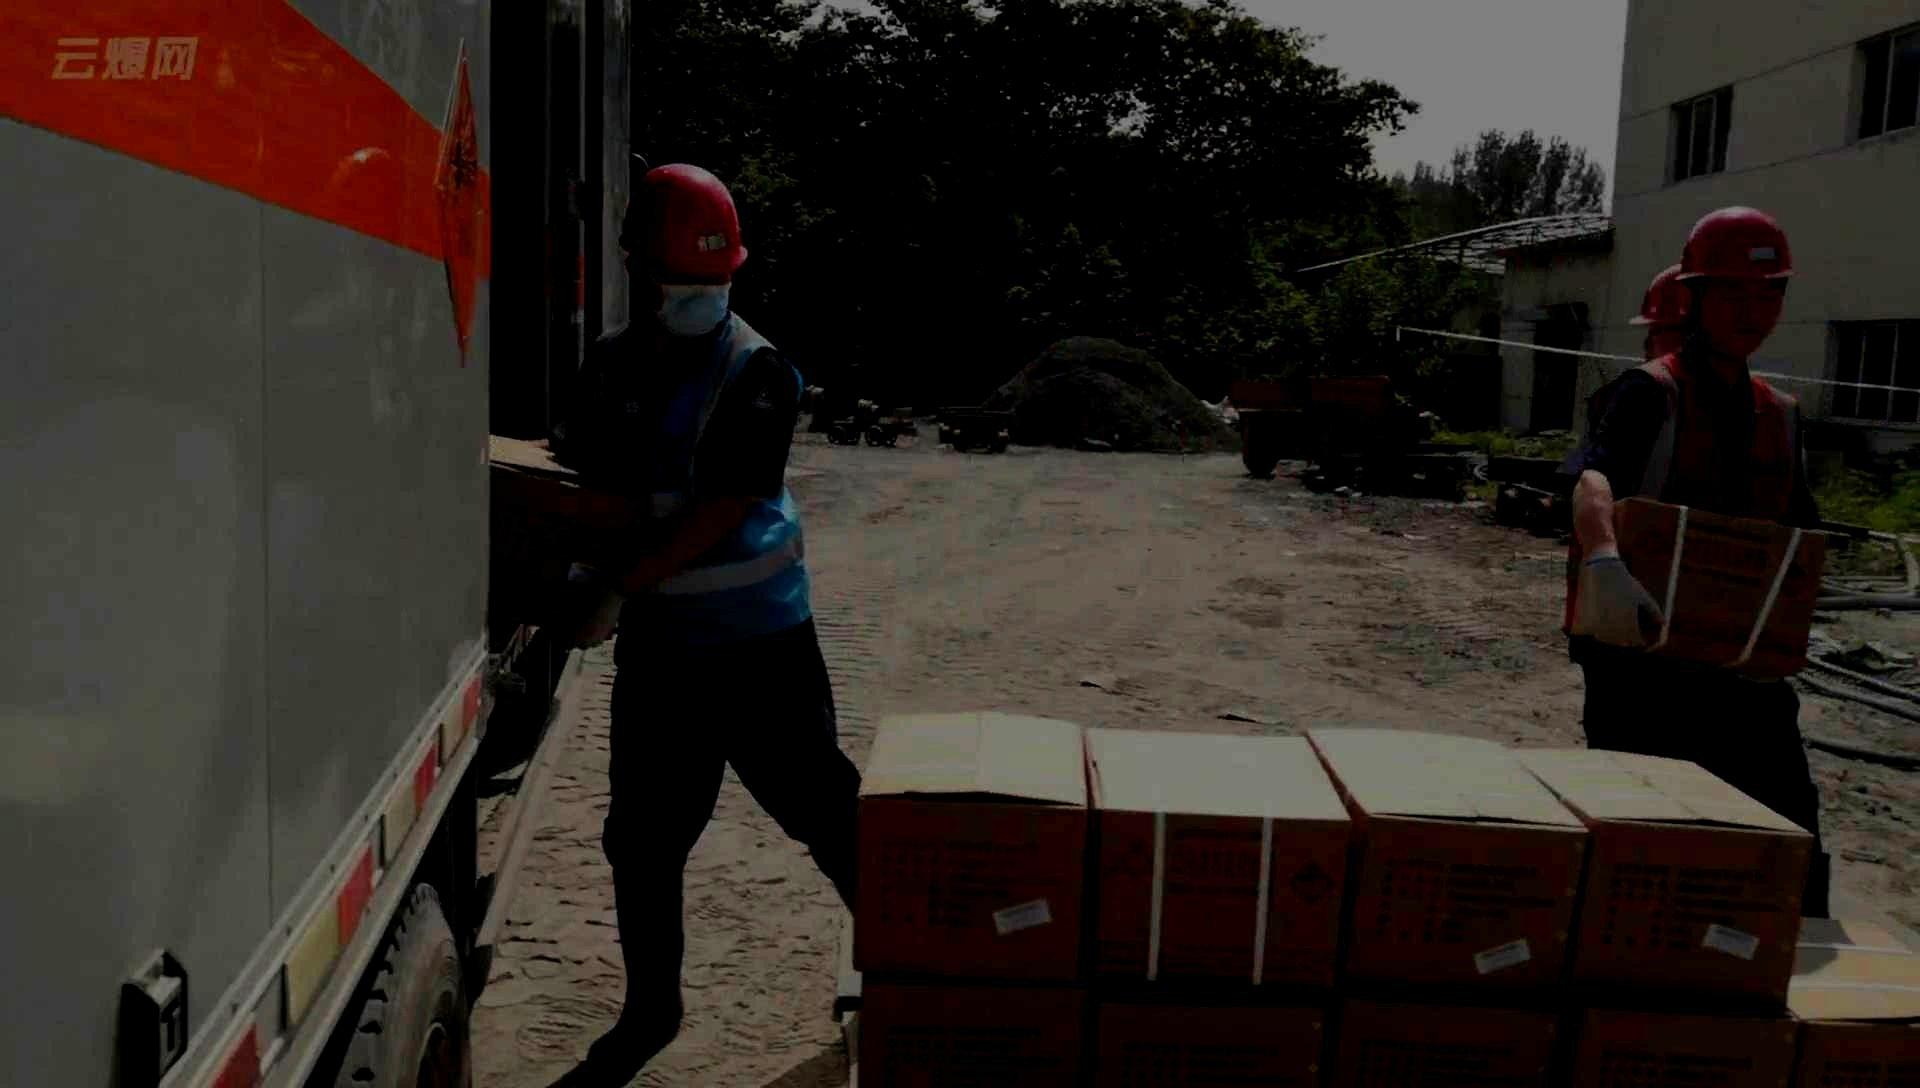helmet: (617, 164, 748, 336), (1673, 204, 1795, 357), (1626, 262, 1691, 363)
